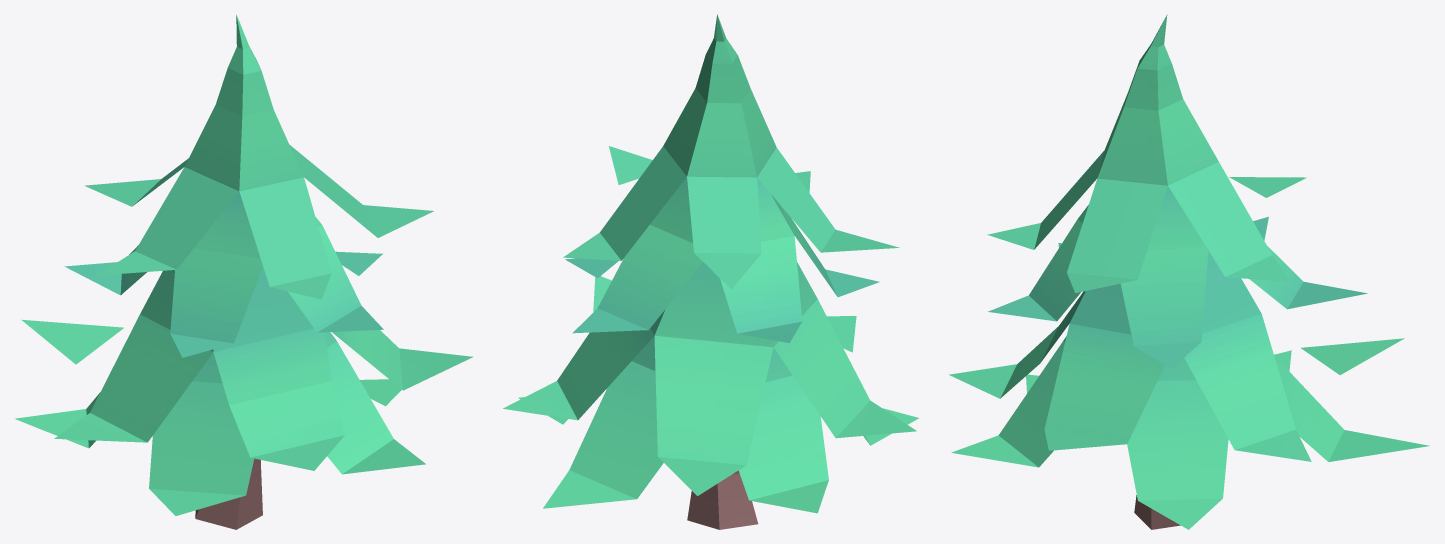
File: pine_tree_1.gltf
3 views of the same model, side by side, from view 1: azimuth 30°, elevation 25°; view 2: azimuth 150°, elevation 25°; view 3: azimuth 270°, elevation 25° (orthographic).
Parts seen in each view (by area): view 1: Object_6; view 2: Object_6; view 3: Object_6.
Boxes of the visible parts, <box> form: Object_6: <box>14,14,472,529</box>; Object_6: <box>503,14,918,529</box>; Object_6: <box>949,14,1429,529</box>.
Bounding box in the file's own units: 8.76 × 11.09 × 9.57.
Materials: 1 (1 with a texture image).
